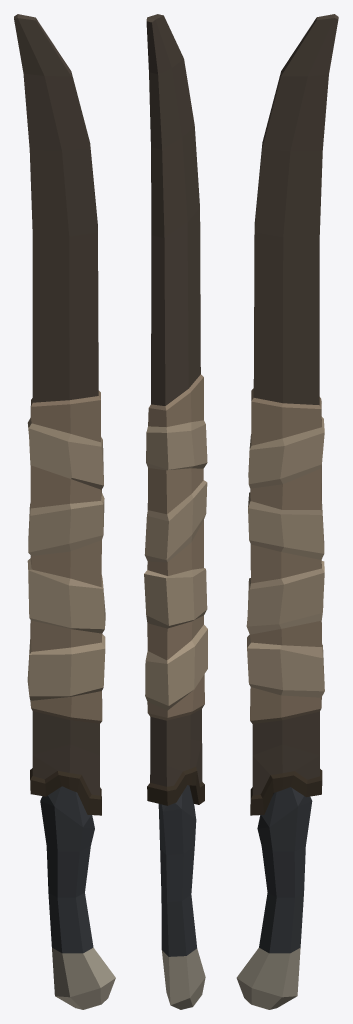
The model's file is SM_Wep_Sword_01.fbx.
3 renders of one model, left to right at view 1: azimuth 90°, elevation 25°; view 2: azimuth 150°, elevation 25°; view 3: azimuth 270°, elevation 25°, orthographic. The views are drawn at different scales.
Parts seen in each view (by area): view 1: SM_Wep_Sword_01_Sheath, SM_Wep_Sword_01; view 2: SM_Wep_Sword_01_Sheath, SM_Wep_Sword_01; view 3: SM_Wep_Sword_01_Sheath, SM_Wep_Sword_01.
Part boxes in pixels (bbox=[...]): SM_Wep_Sword_01_Sheath: bbox=[14, 14, 105, 815]; SM_Wep_Sword_01: bbox=[40, 786, 115, 1009]; SM_Wep_Sword_01_Sheath: bbox=[144, 14, 207, 805]; SM_Wep_Sword_01: bbox=[158, 785, 205, 1009]; SM_Wep_Sword_01_Sheath: bbox=[246, 14, 338, 815]; SM_Wep_Sword_01: bbox=[236, 787, 312, 1009].
Size of the model in its own units: 5.42 by 161 by 14.97.
